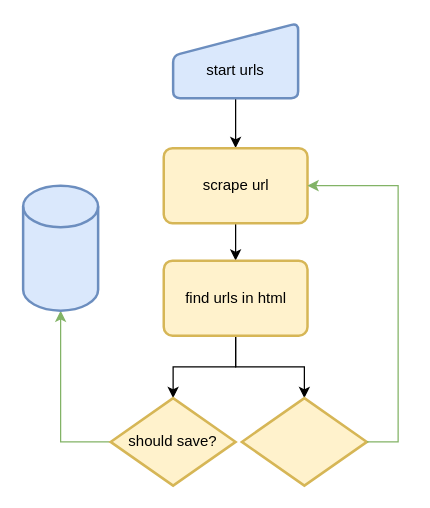
Image size: 430x508. Some labels were removed from this diagram. The centre of each missing label's shape, as x and y in pixels:
"should follow?" goes at [304,441].
"url db storage" goes at [60,247].
